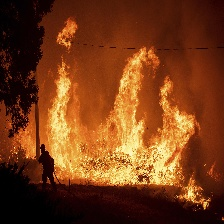fire: (48, 22, 218, 210)
